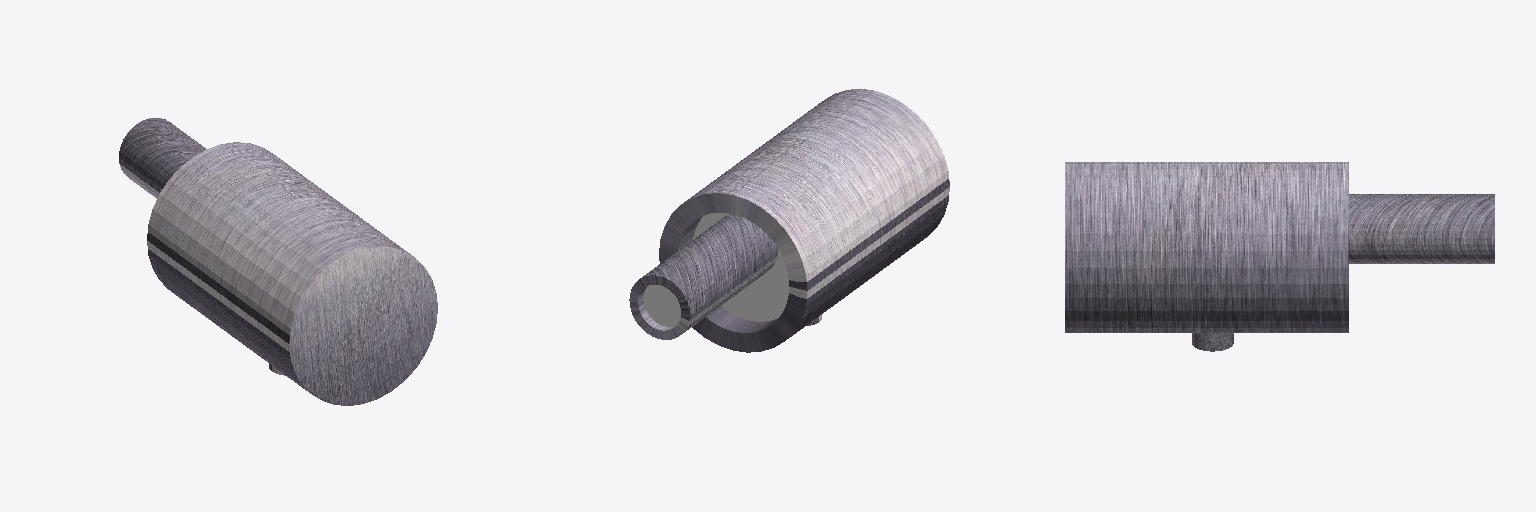
The picture shows the model from 3 angles: view 1: azimuth 30°, elevation 25°; view 2: azimuth 150°, elevation 25°; view 3: azimuth 270°, elevation 25°; orthographic projection.
Visible parts, largest first — view 1: Cylinder, Cylinder.001_Cylinder.003; view 2: Cylinder, Cylinder.001_Cylinder.003; view 3: Cylinder, Cylinder.001_Cylinder.003, Cylinder.002_Cylinder.004.
Boxes of the visible parts, x1=… form: Cylinder: x1=147, y1=142, x2=437, y2=405; Cylinder.001_Cylinder.003: x1=119, y1=118, x2=205, y2=198; Cylinder: x1=659, y1=89, x2=949, y2=352; Cylinder.001_Cylinder.003: x1=629, y1=214, x2=777, y2=339; Cylinder: x1=1065, y1=162, x2=1348, y2=332; Cylinder.001_Cylinder.003: x1=1349, y1=194, x2=1494, y2=263; Cylinder.002_Cylinder.004: x1=1192, y1=333, x2=1233, y2=351.
Size of the model in its own units: 1.84 by 2.05 by 4.62.
Materials: 6 (1 with a texture image).